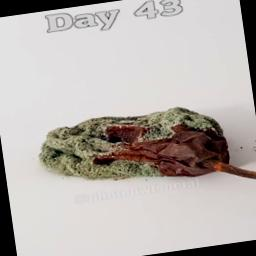Pear Rotten: (4, 72, 256, 198)
